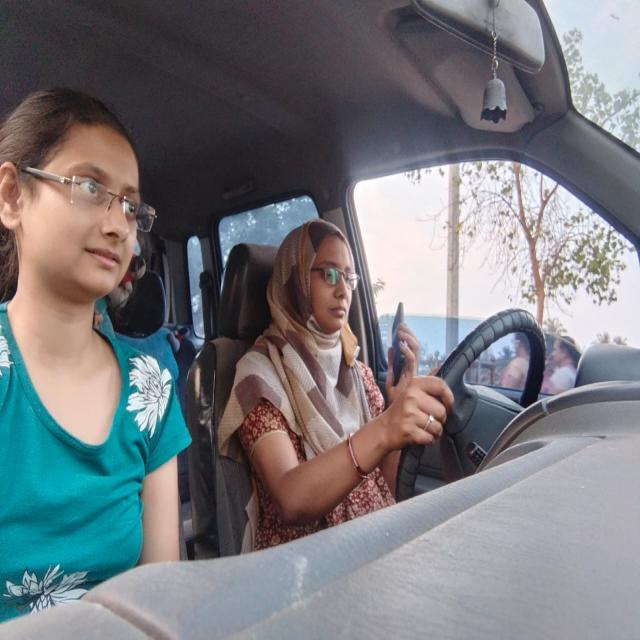mobile: (384, 302, 414, 388)
person: (4, 85, 154, 340), (265, 217, 363, 353)
